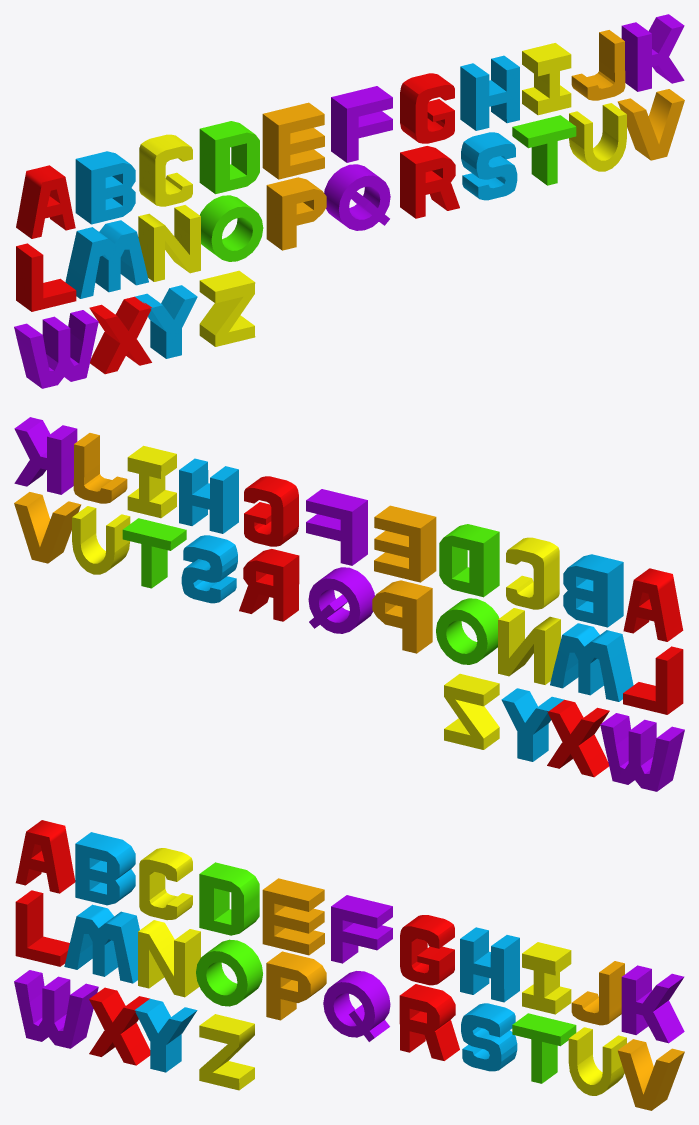
The model's file is Alphabet.fbx.
3 views of the same model, one above another, from view 1: azimuth 30°, elevation 25°; view 2: azimuth 150°, elevation 25°; view 3: azimuth 330°, elevation 25° (orthographic).
Visible parts, largest first — view 1: pCube31, pCube36, pCube5, pCube4, pCube2, pCube10, pCube16, pCube13, pPipe2, pCube8, pCube28, pCube20 (+14 smaller); view 2: pCube31, pCube36, pCube5, pCube4, pCube2, pCube10, pCube16, pCube13, pPipe2, pCube8, pCube20, pCube28 (+14 smaller); view 3: pCube31, pCube36, pCube5, pCube4, pCube2, pCube16, pCube10, pCube20, pCube13, pPipe2, pCube28, pPipe1 (+14 smaller).
Boxes of the visible parts, left/top/right/bottom form: pCube31: left=14, top=310, right=98, bottom=388; pCube36: left=65, top=220, right=148, bottom=298; pCube5: left=262, top=102, right=324, bottom=179; pCube4: left=199, top=121, right=259, bottom=194; pCube2: left=75, top=151, right=135, bottom=224; pCube10: left=460, top=55, right=519, bottom=130; pCube16: left=138, top=205, right=200, bottom=281; pCube13: left=621, top=14, right=684, bottom=91; pPipe2: left=324, top=164, right=390, bottom=230; pCube8: left=331, top=86, right=392, bottom=162; pCube28: left=400, top=73, right=454, bottom=143; pCube20: left=400, top=146, right=459, bottom=218; pCube31: left=600, top=713, right=684, bottom=791; pCube36: left=550, top=623, right=633, bottom=701; pCube5: left=374, top=505, right=436, bottom=582; pCube4: left=439, top=524, right=499, bottom=597; pCube2: left=563, top=554, right=623, bottom=627; pCube10: left=179, top=458, right=238, bottom=533; pCube16: left=498, top=608, right=560, bottom=684; pCube13: left=14, top=417, right=77, bottom=494; pPipe2: left=308, top=567, right=374, bottom=633; pCube8: left=306, top=489, right=367, bottom=565; pCube20: left=239, top=549, right=299, bottom=621; pCube28: left=244, top=476, right=298, bottom=546; pCube31: left=14, top=970, right=98, bottom=1048; pCube36: left=64, top=904, right=139, bottom=983; pCube5: left=262, top=878, right=324, bottom=955; pCube4: left=199, top=862, right=259, bottom=935; pCube2: left=75, top=832, right=135, bottom=905; pCube16: left=138, top=920, right=200, bottom=997; pCube10: left=460, top=927, right=519, bottom=1002; pCube20: left=399, top=984, right=459, bottom=1060; pCube13: left=621, top=965, right=684, bottom=1043; pPipe2: left=323, top=971, right=390, bottom=1041; pCube28: left=400, top=915, right=454, bottom=985; pPipe1: left=196, top=939, right=262, bottom=1006.
Bounding box in the file's own units: 12.64 × 3.86 × 0.5309.
